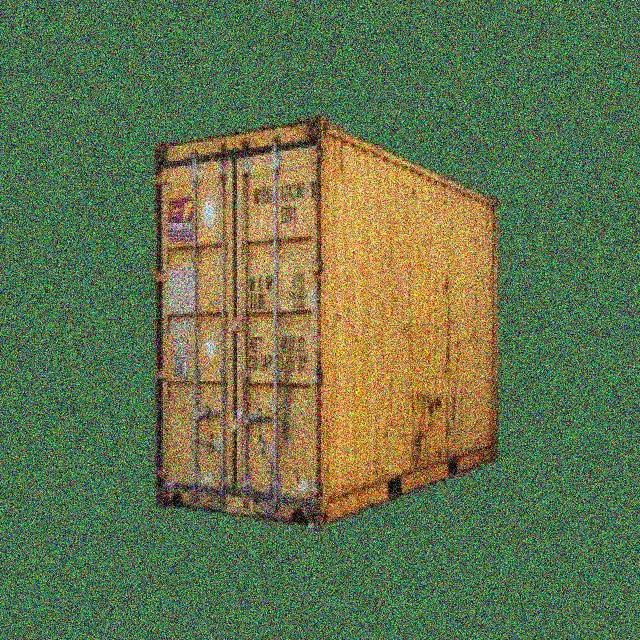Rusty: (412, 392, 443, 461), (444, 384, 464, 455)
